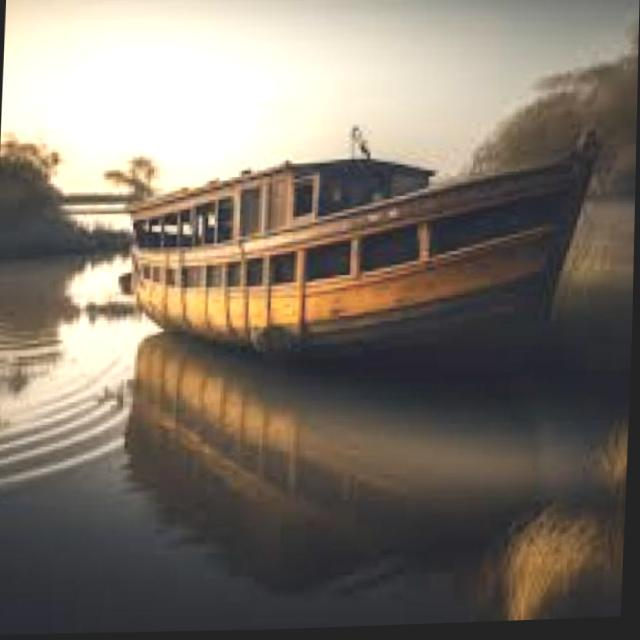ship2: (131, 129, 600, 375)
